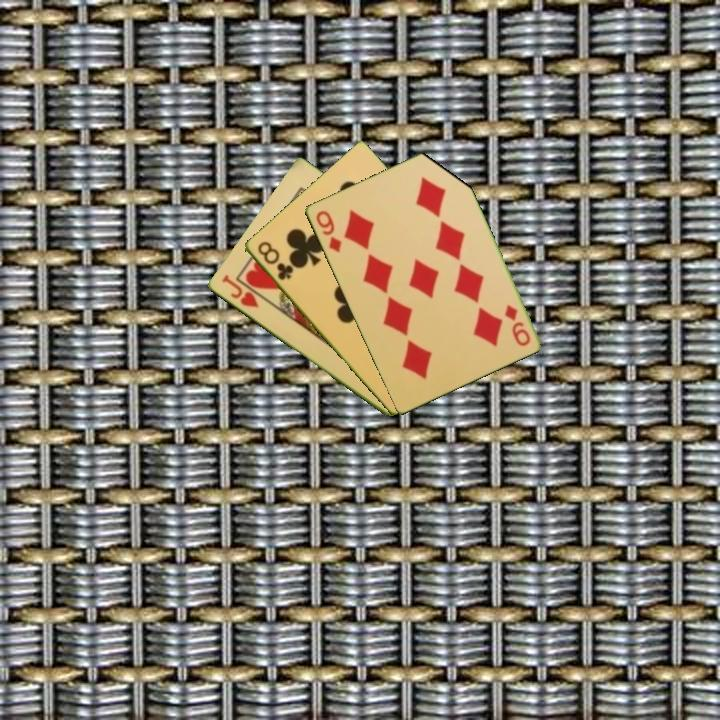8c: (254, 238, 296, 283)
9d: (500, 301, 533, 349), (312, 207, 344, 256)
Jh: (218, 271, 261, 311)
